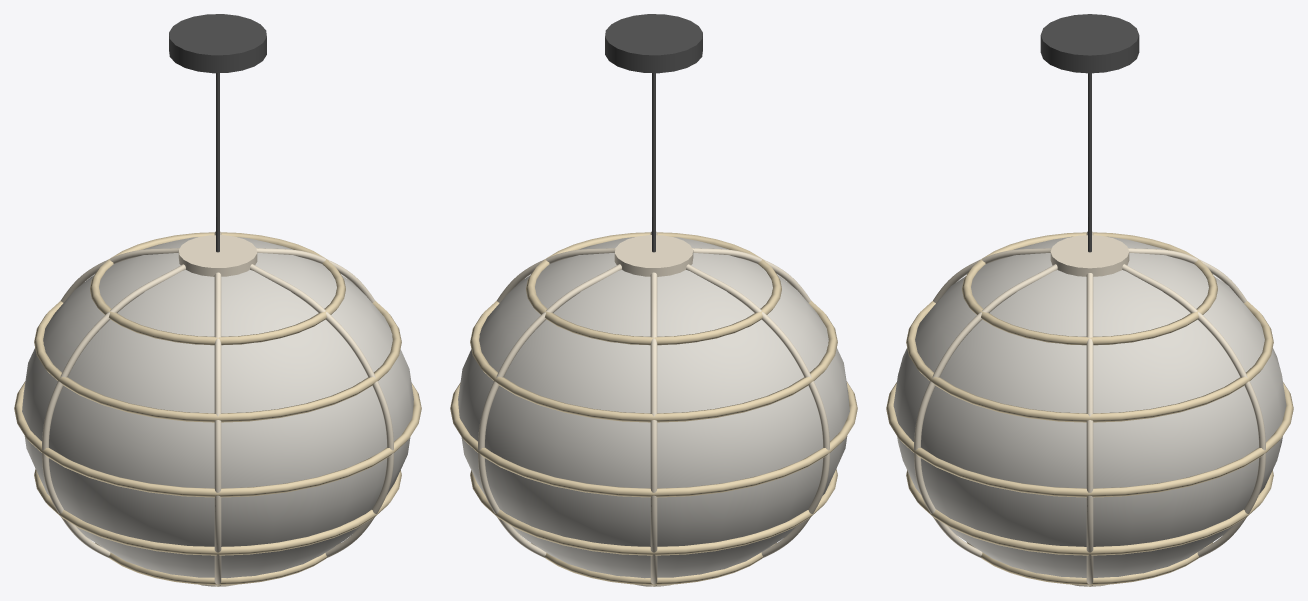
The model's file is sg_lantern_small.glb.
3 views of the same model, side by side, from view 1: azimuth 30°, elevation 25°; view 2: azimuth 150°, elevation 25°; view 3: azimuth 270°, elevation 25° (orthographic).
Visible parts, largest first — view 1: paper, canopy, ring3, ring2, ring4, ring1, capt, rib5, rib3, rib4, ring0, rib0 (+2 smaller); view 2: paper, canopy, ring3, ring2, ring4, ring1, capt, rib1, rib3, rib2, ring0, rib0 (+2 smaller); view 3: paper, canopy, ring3, ring2, ring4, ring1, capt, rib1, rib5, rib0, ring0, rib2 (+2 smaller).
Boxes of the visible parts, bbox=[...] form: paper: bbox=[22, 237, 413, 578]; canopy: bbox=[169, 14, 266, 73]; ring3: bbox=[34, 300, 401, 422]; ring2: bbox=[14, 381, 421, 497]; ring4: bbox=[90, 232, 345, 345]; ring1: bbox=[34, 469, 401, 555]; capt: bbox=[178, 235, 257, 276]; rib5: bbox=[250, 264, 393, 558]; rib3: bbox=[42, 264, 185, 558]; rib4: bbox=[214, 272, 221, 586]; ring0: bbox=[95, 543, 340, 585]; rib0: bbox=[256, 248, 374, 302]; paper: bbox=[458, 237, 849, 578]; canopy: bbox=[605, 14, 702, 73]; ring3: bbox=[470, 300, 837, 422]; ring2: bbox=[450, 381, 857, 497]; ring4: bbox=[526, 232, 781, 345]; ring1: bbox=[470, 469, 837, 555]; capt: bbox=[614, 235, 693, 276]; rib1: bbox=[478, 264, 621, 558]; rib3: bbox=[686, 264, 829, 558]; rib2: bbox=[650, 272, 657, 586]; ring0: bbox=[531, 543, 776, 585]; rib0: bbox=[497, 248, 615, 302]; paper: bbox=[893, 236, 1286, 577]; canopy: bbox=[1040, 14, 1139, 73]; ring3: bbox=[906, 301, 1273, 422]; ring2: bbox=[886, 382, 1293, 497]; ring4: bbox=[962, 232, 1217, 345]; ring1: bbox=[906, 470, 1273, 555]; capt: bbox=[1050, 235, 1129, 276]; rib1: bbox=[1122, 264, 1265, 558]; rib5: bbox=[914, 264, 1057, 558]; rib0: bbox=[1086, 273, 1093, 586]; ring0: bbox=[967, 542, 1212, 585]; rib2: bbox=[1128, 248, 1246, 302].
Size of the model in its own units: 0.414 by 0.6 by 0.414.
